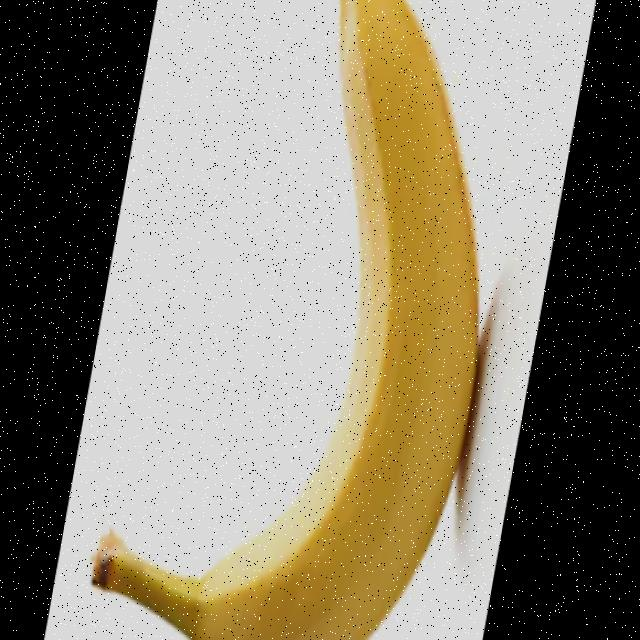god quality banana: (93, 0, 479, 640)
